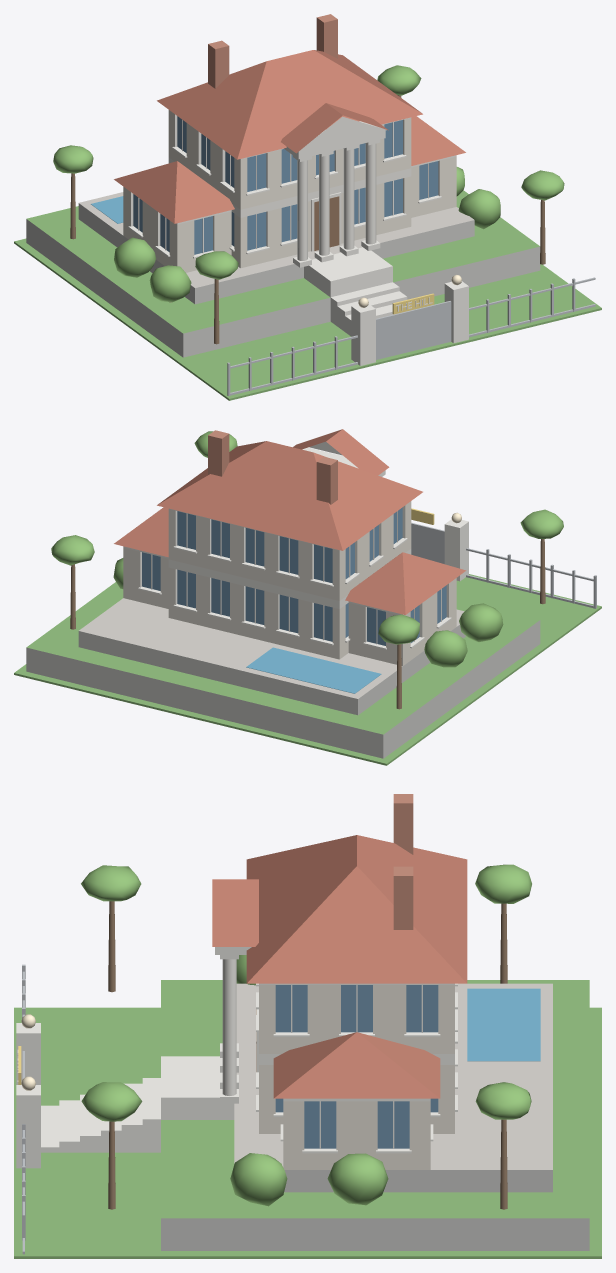
File: mansion.glb
3 views of the same model, one above another, from view 1: azimuth 30°, elevation 25°; view 2: azimuth 150°, elevation 25°; view 3: azimuth 270°, elevation 25° (orthographic). The views are drawn at different scales.
Visible parts, largest first — view 1: mansion; view 2: mansion; view 3: mansion.
Boxes of the visible parts, x1,y1,x2,y2 form: mansion: (14, 14, 601, 400); mansion: (14, 429, 601, 765); mansion: (14, 794, 601, 1258).
Size of the model in its own units: 24 by 13.5 by 24.
